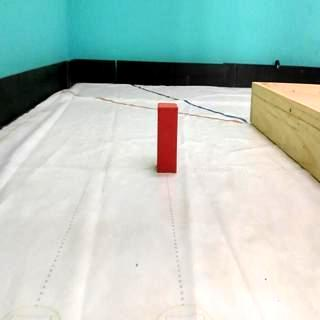redbox: (157, 103, 177, 174)
